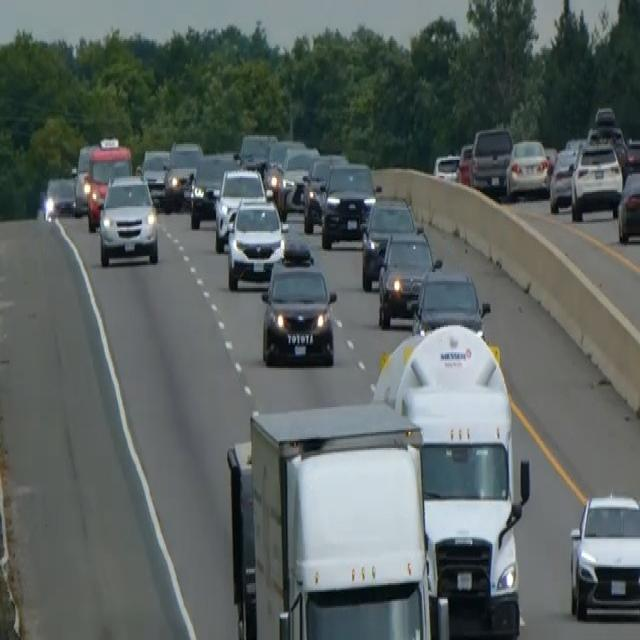car: (568, 491, 639, 622), (260, 256, 337, 366), (377, 226, 439, 327), (97, 172, 159, 266), (412, 266, 490, 338), (226, 196, 284, 290), (360, 194, 416, 290), (319, 160, 376, 247), (213, 165, 266, 252), (85, 137, 132, 231), (570, 137, 622, 220), (189, 151, 239, 228), (301, 153, 348, 233), (469, 124, 512, 192), (163, 138, 203, 210), (505, 137, 549, 199), (548, 137, 584, 211), (280, 146, 319, 210), (71, 142, 96, 215), (140, 148, 170, 206), (616, 169, 639, 243), (237, 130, 277, 170), (261, 158, 288, 217), (42, 174, 75, 220), (267, 137, 305, 171), (433, 151, 460, 181), (456, 140, 473, 185), (624, 135, 639, 171)
lorry: (226, 398, 439, 638), (374, 320, 531, 635)
